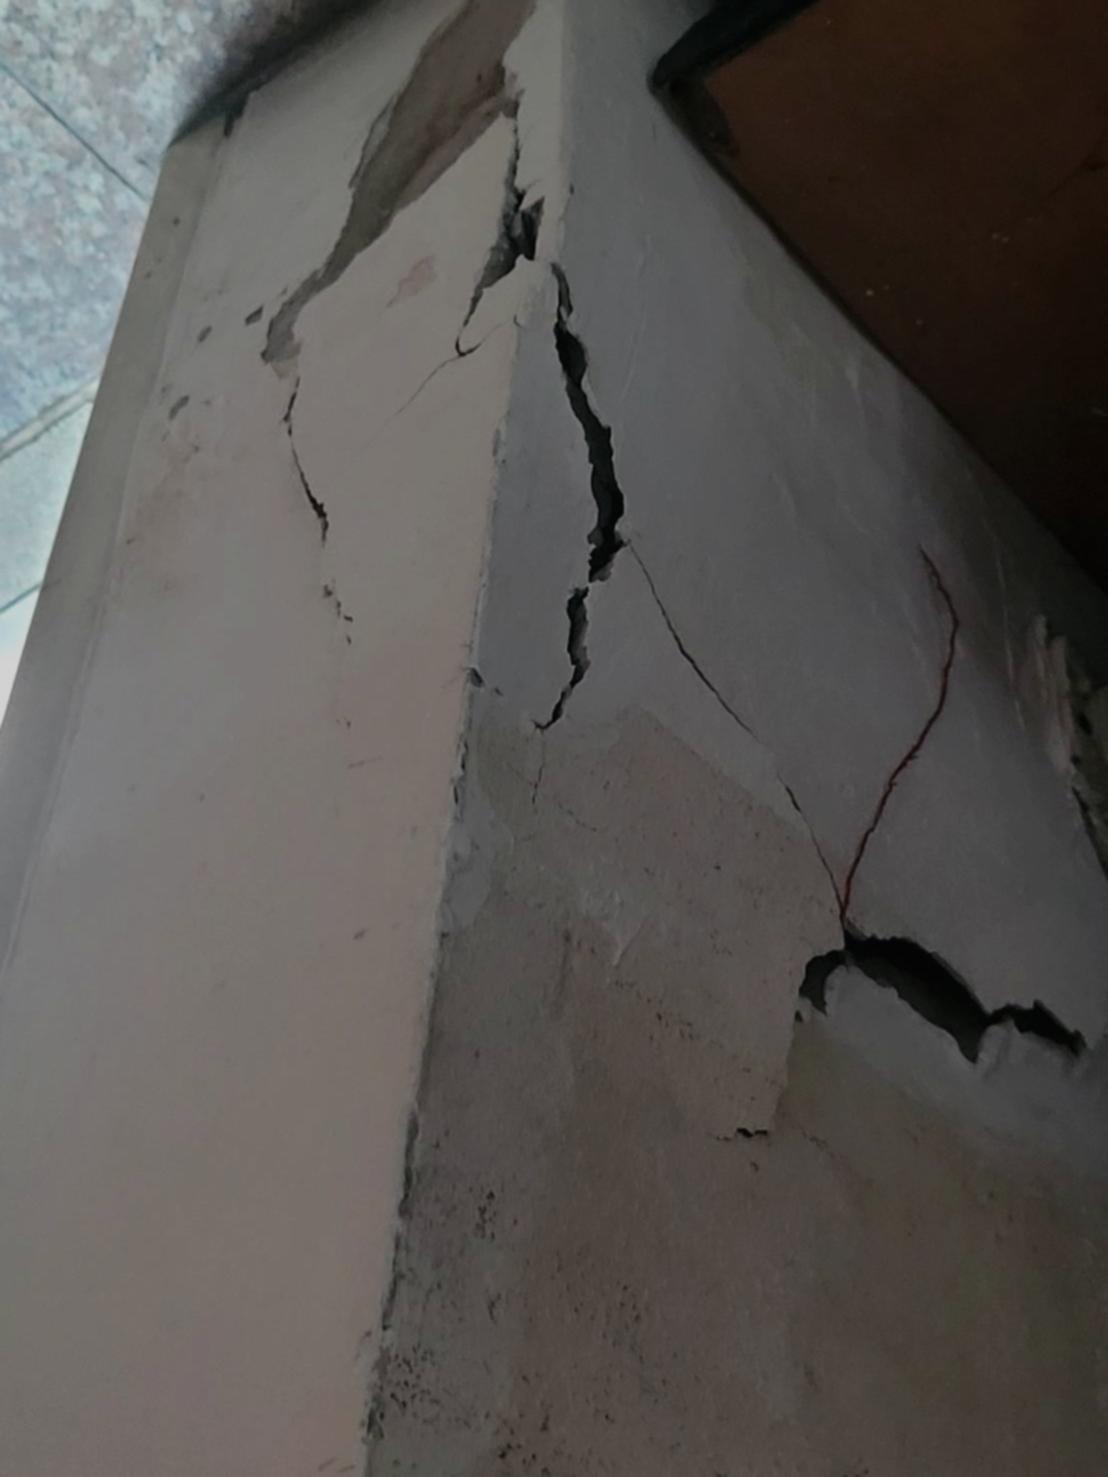High: (216, 3, 1105, 1137)
